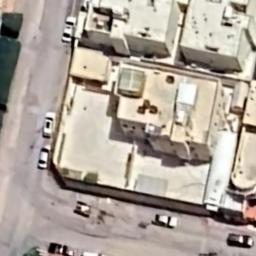SUV: (225, 230, 255, 251), (42, 110, 59, 140)
sedan: (151, 210, 180, 230), (60, 14, 77, 43), (37, 143, 52, 171)
